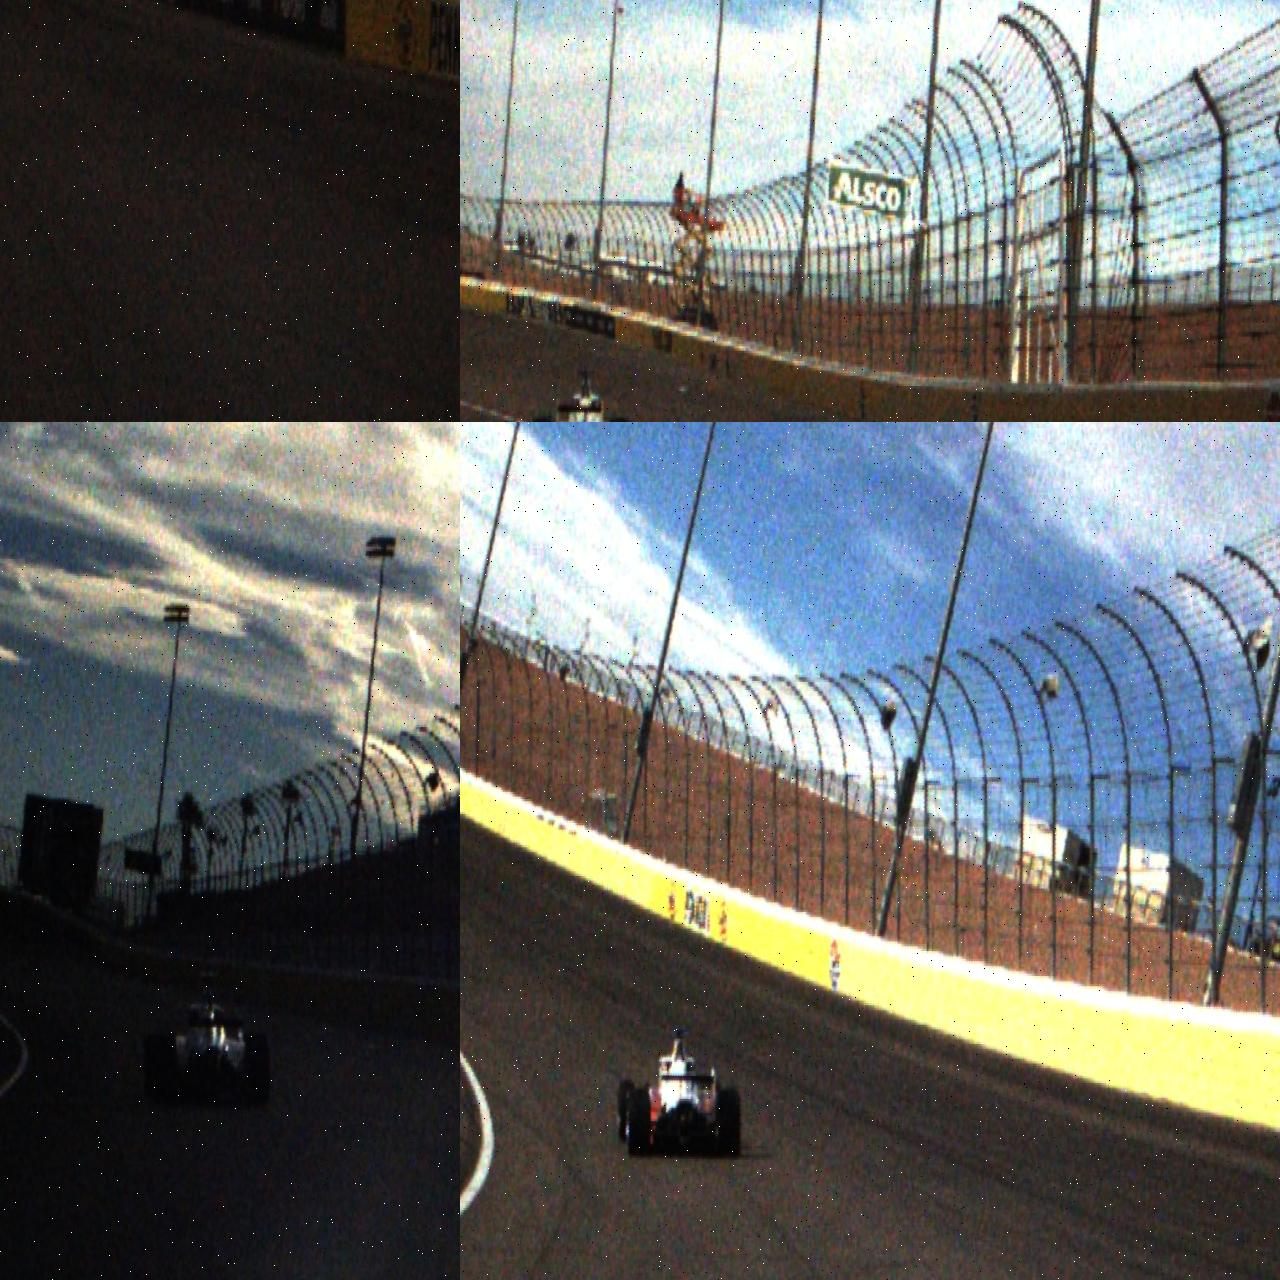AV: (142, 969, 273, 1108), (617, 1027, 742, 1160), (530, 368, 635, 422)
Wheel: (150, 1034, 177, 1107), (246, 1033, 272, 1108), (626, 1089, 651, 1157), (717, 1088, 741, 1158), (617, 1080, 635, 1143)
